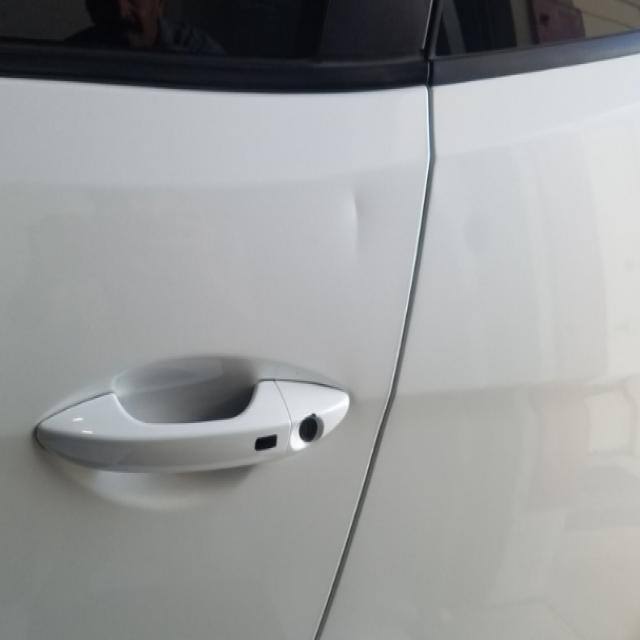dents: (332, 170, 391, 294)
